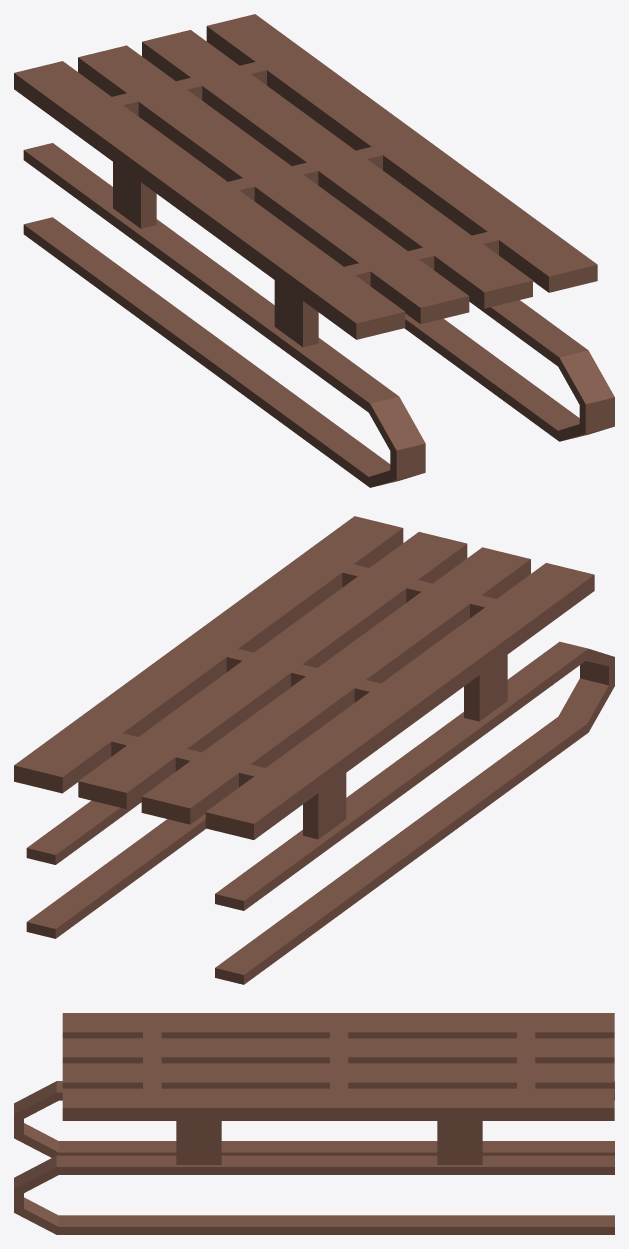
The model's file is 072 Buggy.fbx.
The picture shows the model from 3 angles, top to bottom: view 1: azimuth 30°, elevation 25°; view 2: azimuth 150°, elevation 25°; view 3: azimuth 270°, elevation 25°; orthographic projection. The views are drawn at different scales.
Parts seen in each view (by area): view 1: Lowpoly_Christmas_Pack_072:pCylinder5; view 2: Lowpoly_Christmas_Pack_072:pCylinder5; view 3: Lowpoly_Christmas_Pack_072:pCylinder5.
Boxes of the visible parts, bbox=[...] form: Lowpoly_Christmas_Pack_072:pCylinder5: bbox=[14, 14, 614, 487]; Lowpoly_Christmas_Pack_072:pCylinder5: bbox=[14, 516, 614, 984]; Lowpoly_Christmas_Pack_072:pCylinder5: bbox=[14, 1013, 614, 1234].
Size of the model in its own units: 0.9475 by 0.6151 by 2.54.
